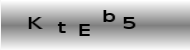5: (122, 15, 135, 30)
E: (77, 23, 91, 38)
K: (28, 16, 44, 30)
b: (101, 9, 115, 23)
t: (56, 21, 67, 34)
